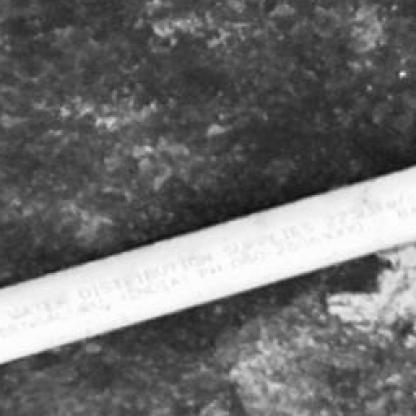PVC: (1, 168, 414, 367)
